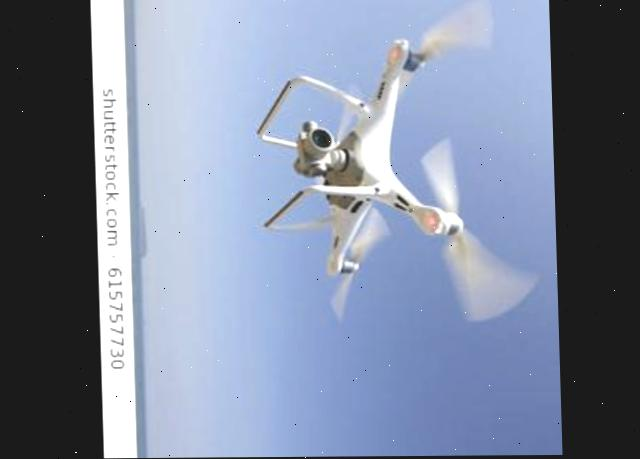drone: (205, 0, 557, 360)
